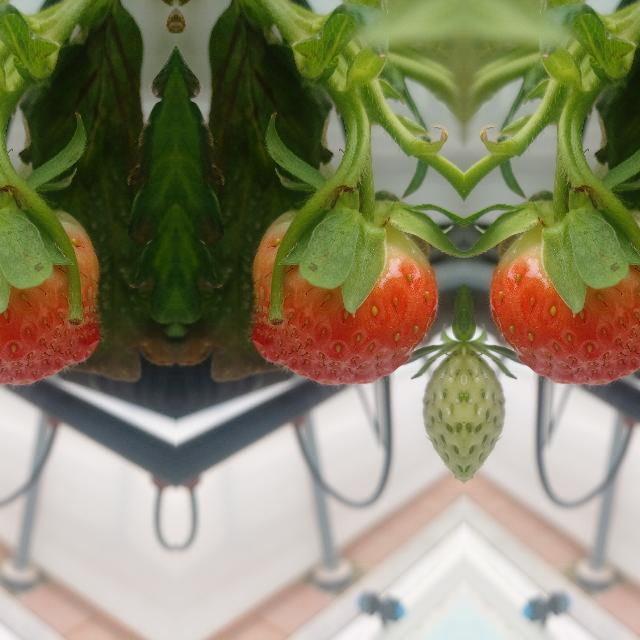Health_100: (250, 210, 436, 384), (490, 209, 640, 384), (0, 209, 100, 384)
